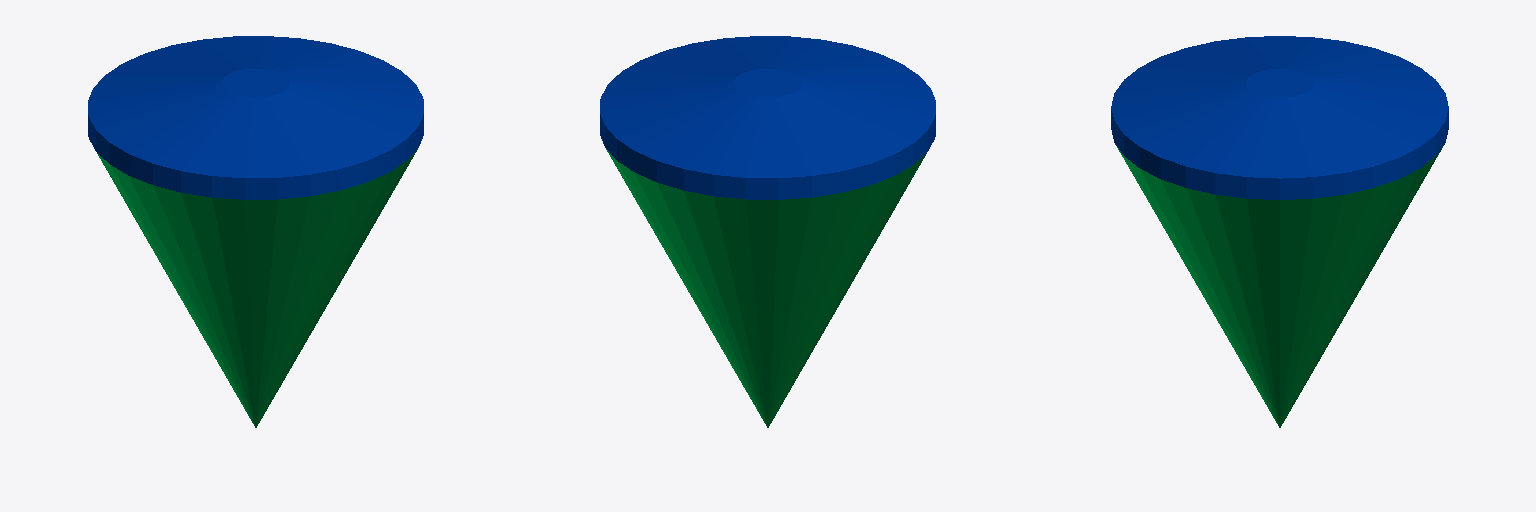
File: selector.obj
3 renders of one model, left to right at view 1: azimuth 30°, elevation 25°; view 2: azimuth 150°, elevation 25°; view 3: azimuth 270°, elevation 25°, orthographic.
Parts seen in each view (by area): view 1: Cone; view 2: Cone; view 3: Cone.
Boxes of the visible parts, x1=… form: Cone: x1=88, y1=36, x2=423, y2=427; Cone: x1=600, y1=36, x2=935, y2=427; Cone: x1=1111, y1=36, x2=1448, y2=427.
Bounding box in the file's own units: 0.555 × 0.6266 × 0.555.